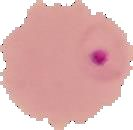parasitized: (75, 16, 132, 85)
